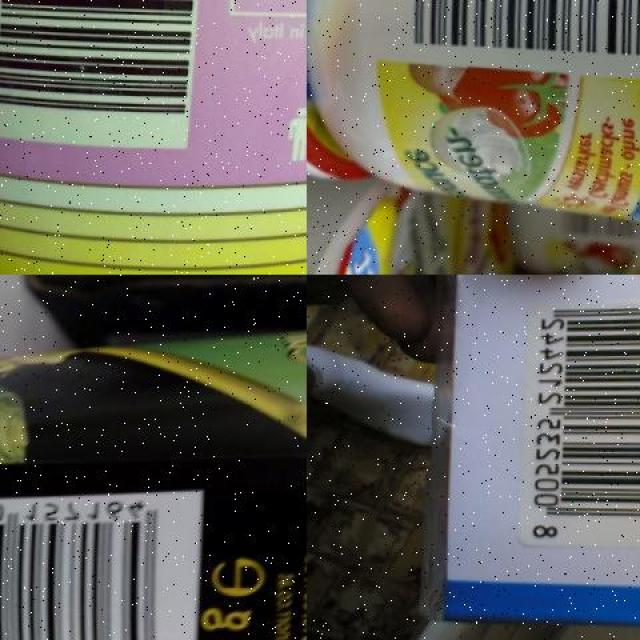Barcode: (0, 482, 206, 640), (0, 0, 208, 145), (526, 298, 640, 541), (384, 0, 640, 61)
